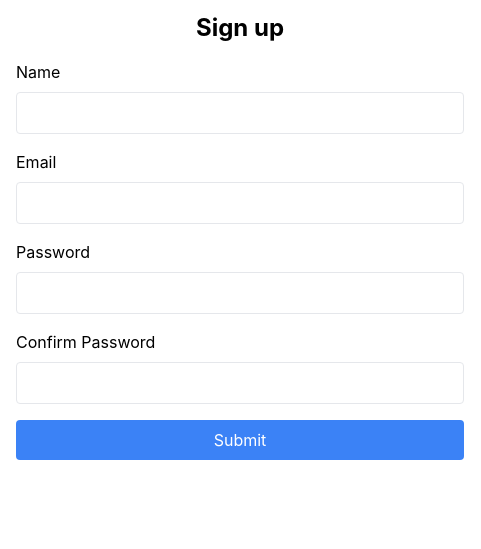
RegisterPage › displays validation errors when form is submitted with empty fields
Click the button "Submit": [240, 440] box [16,420,464,460]
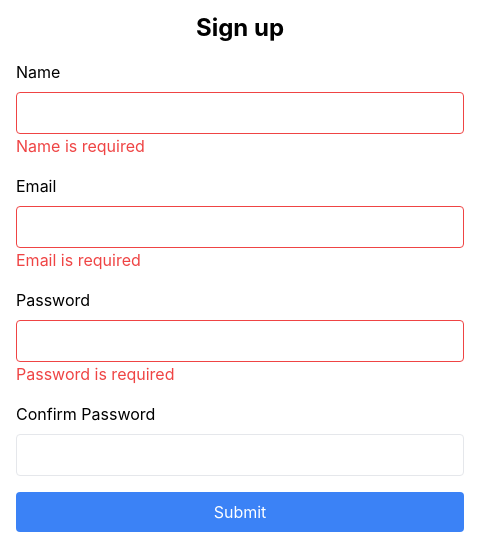
Check: the text "Name is required" is shown, box [16,136,145,156]
Check: the text "Email is required" is shown, box [16,250,141,270]
Check: the text "Password is required" is shown, box [16,364,174,384]
